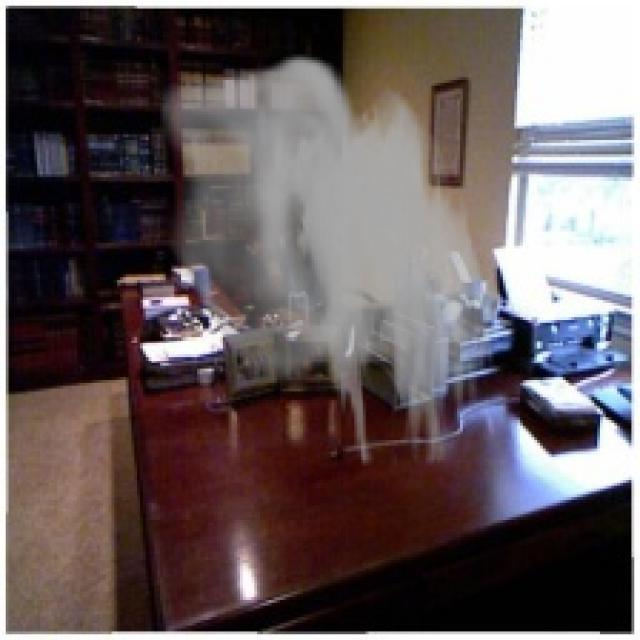Smoke: (160, 54, 503, 466)
